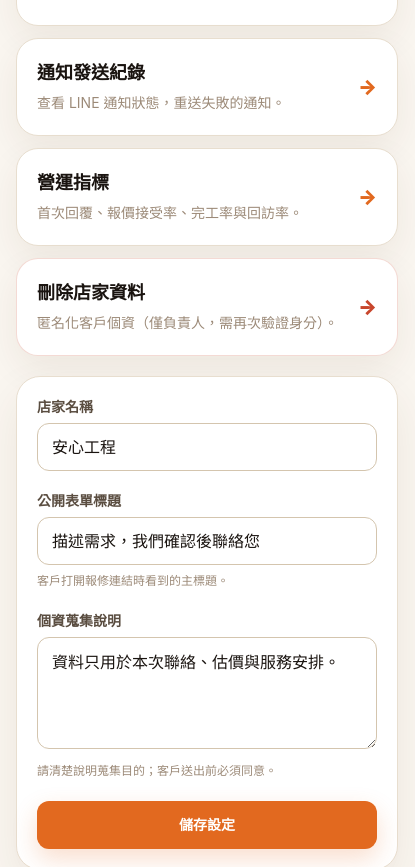
Test: PilotSettings › saves editable settings with the current lock version
The image size is (415, 867).
(page scrolled)
Replace the text in the field labelled "店家名稱" with "安心冷氣水電". click: (207, 446)
box: x1=37 y1=422 x2=377 y2=470
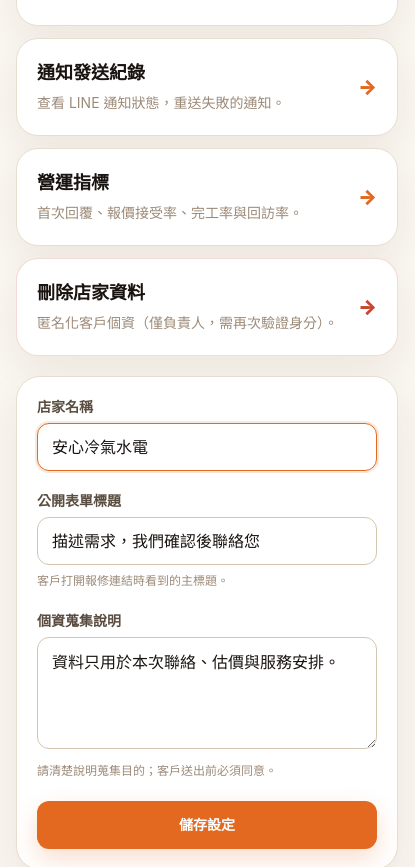
Replace the text in the field labelled "公開表單標題" with "請描述現場狀況，我們會人工確認". click: (207, 540)
box: x1=37 y1=516 x2=377 y2=564
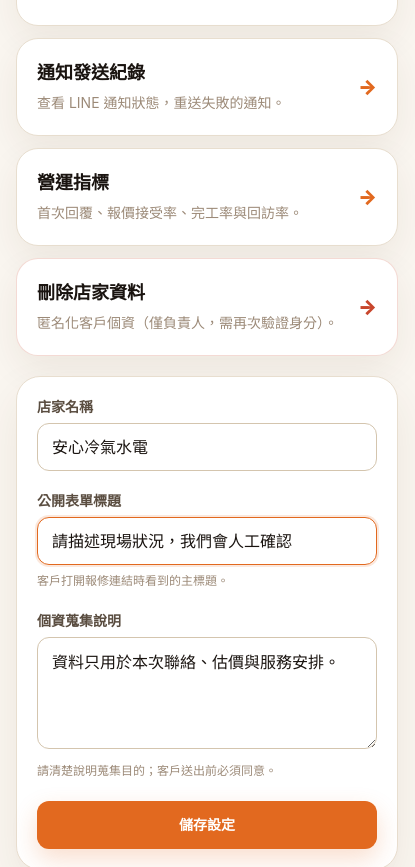
Click the button "儲存設定". click: (207, 824)
box: x1=37 y1=800 x2=377 y2=848
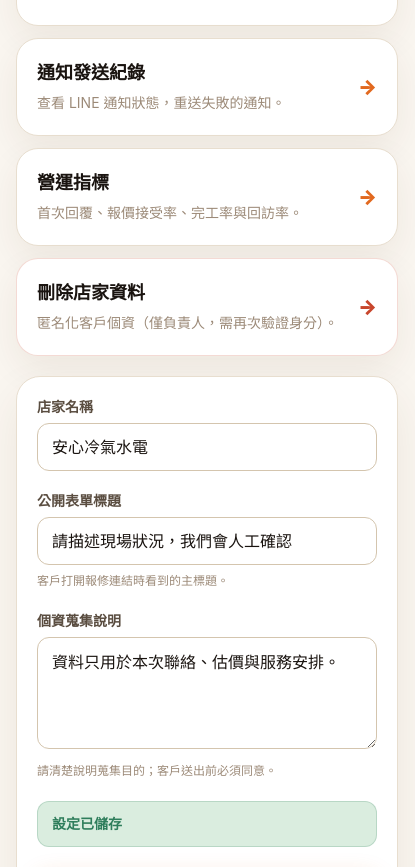
Check: the message reads "設定已儲存", box x1=52 y1=814 x2=122 y2=832
